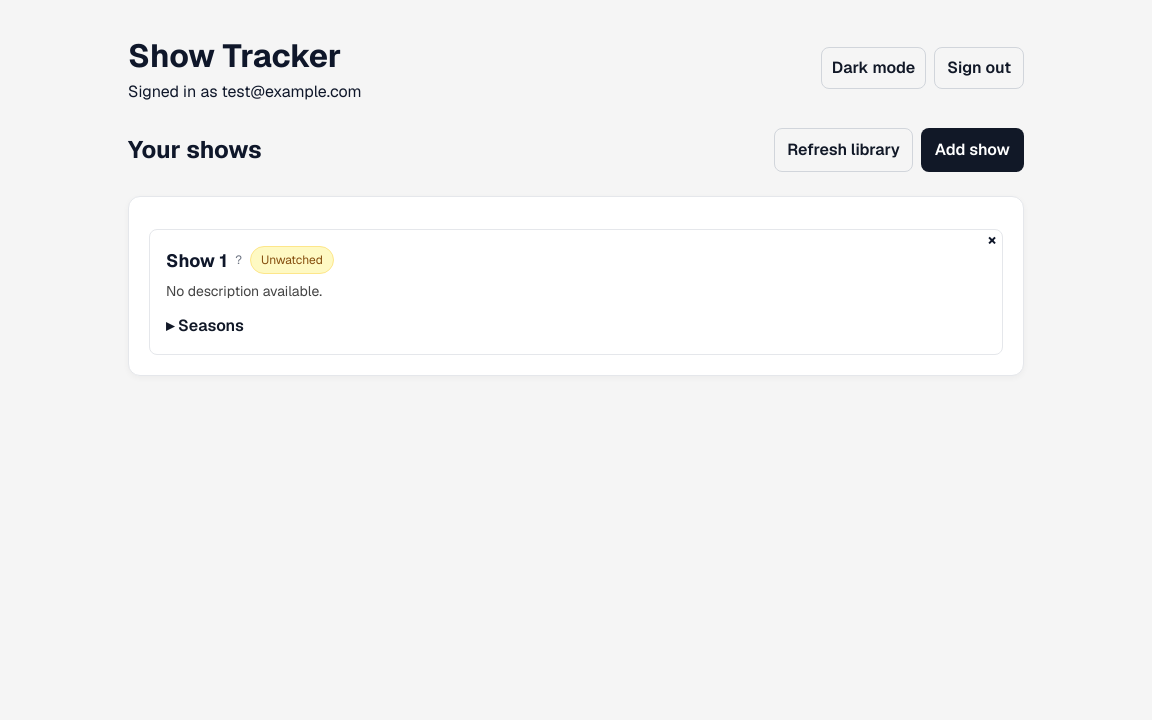
Test: Home refresh › posts refresh and shows success toast when shows exist
Expected: the heading "Your shows" is shown, [128,132,262,168]
Click the button "Refresh library" at (844, 150), box [774,128,913,172]
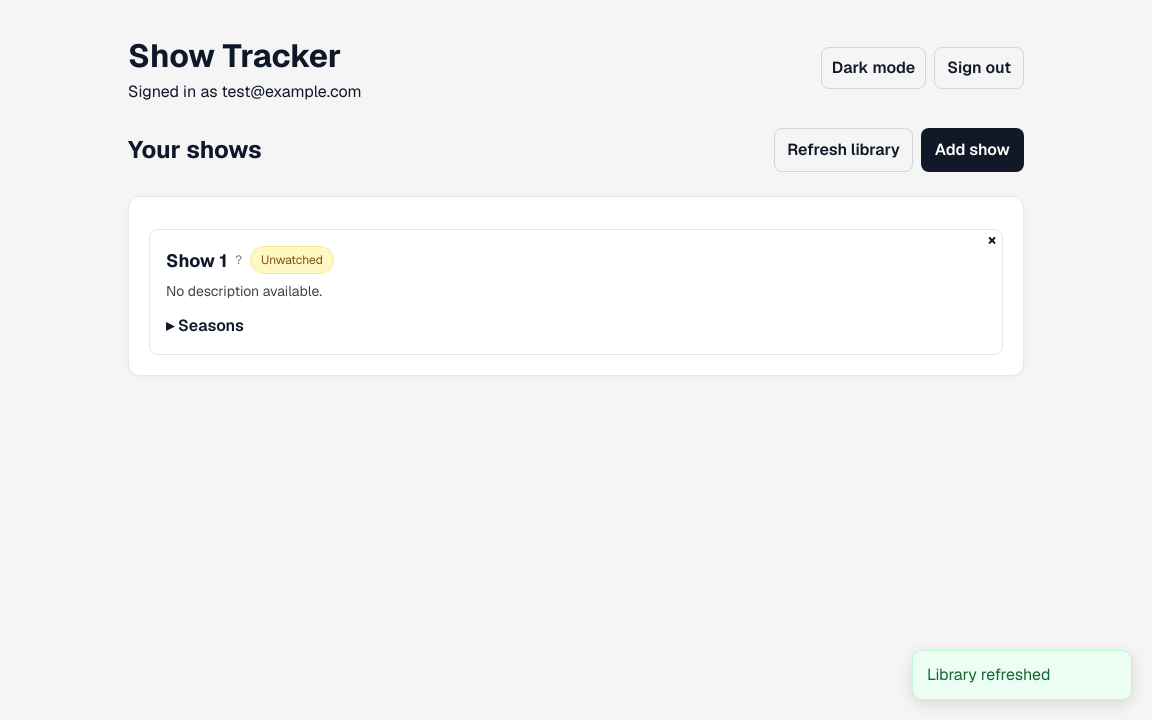
Expected: the text "Library refreshed" is shown, [912,650,1132,700]
